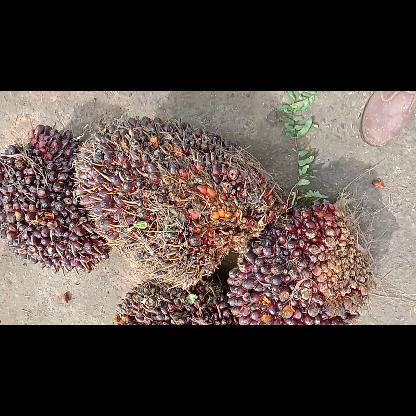Kurang masak: (72, 115, 280, 288), (226, 202, 374, 324), (0, 125, 108, 275), (114, 278, 238, 324)
